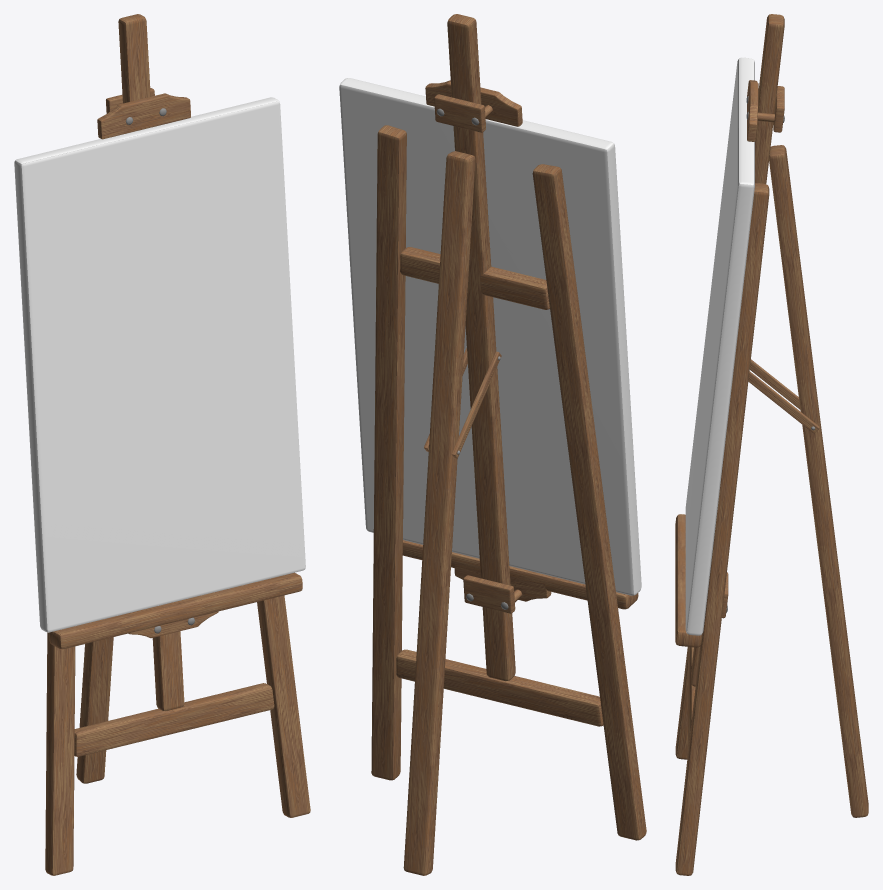
File: EaselPainting.fbx
3 views of the same model, side by side, from view 1: azimuth 30°, elevation 25°; view 2: azimuth 150°, elevation 25°; view 3: azimuth 270°, elevation 25° (orthographic). The views are drawn at different scales.
Parts seen in each view (by area): view 1: EaselPainting; view 2: EaselPainting; view 3: EaselPainting.
Part boxes in pixels (x1,y1,x2,y2): EaselPainting: [14, 14, 310, 875]; EaselPainting: [339, 14, 646, 875]; EaselPainting: [675, 14, 868, 875].
Bounding box in the file's own units: 1.71 × 4.98 × 1.1.
